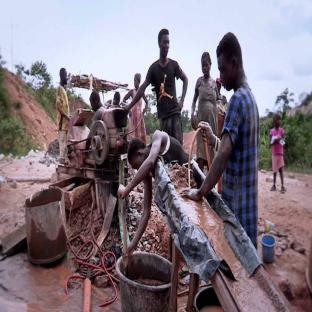Person: (205, 29, 262, 226), (141, 28, 185, 132), (44, 57, 72, 163), (270, 111, 292, 195)
ProcessingEquipment: (61, 108, 132, 190)
